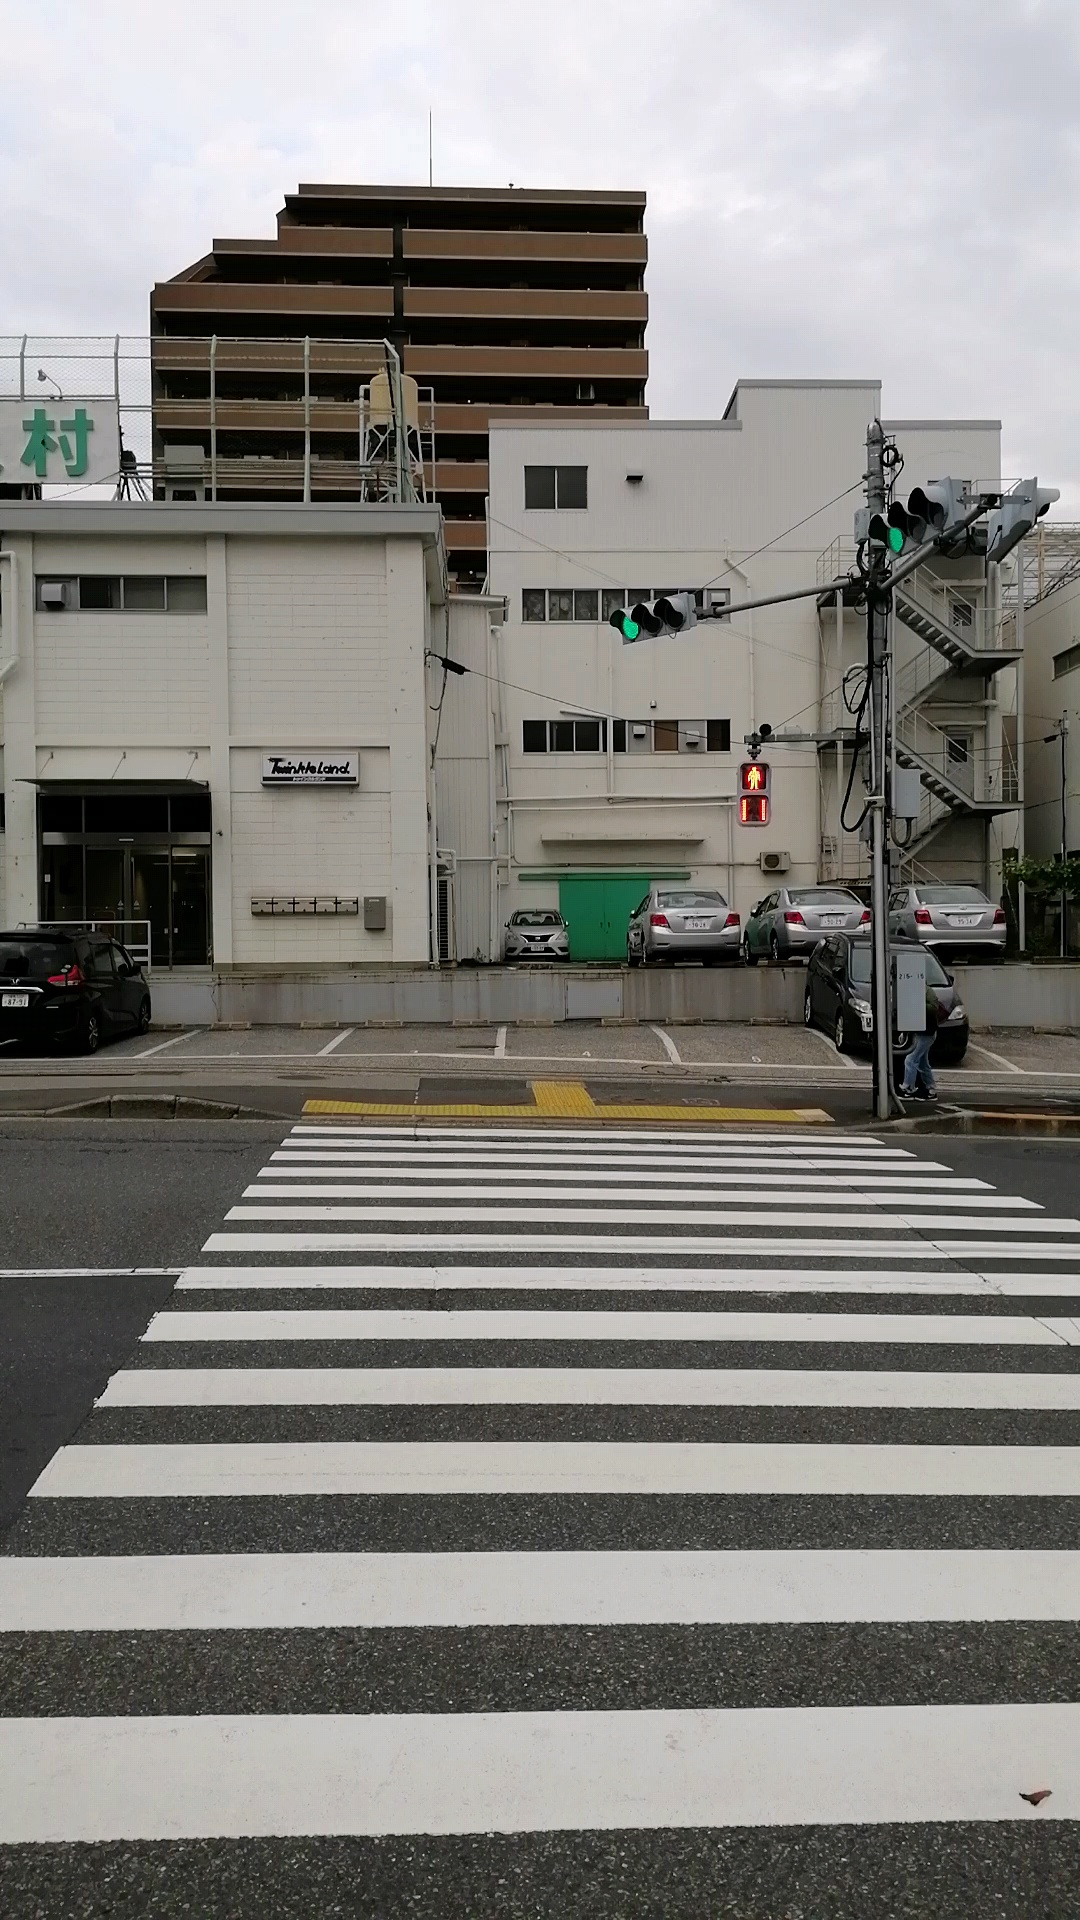red: (737, 760, 771, 828)
